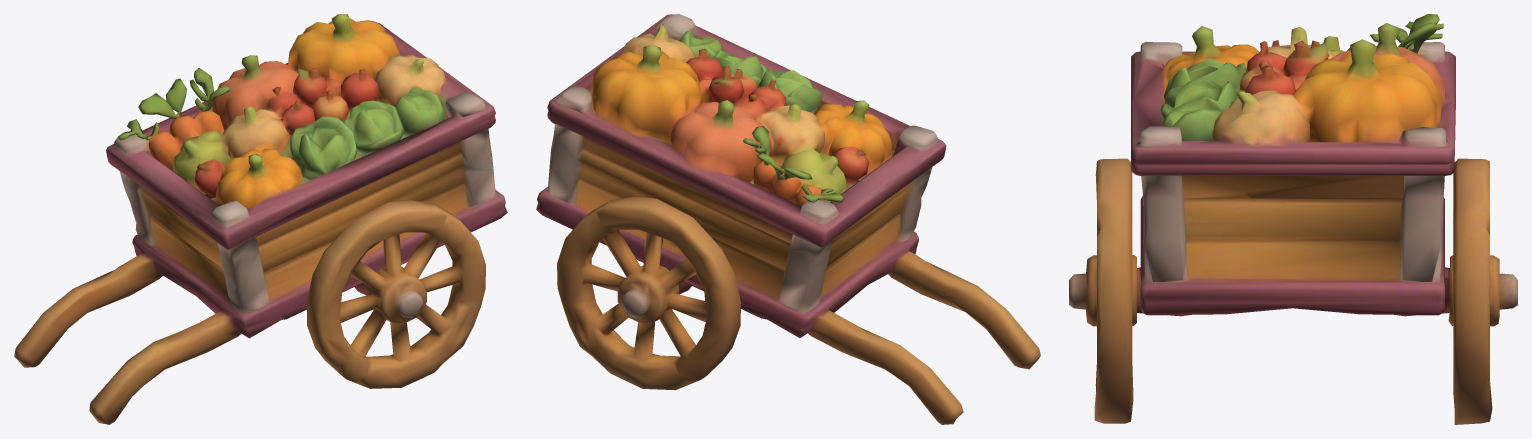
File: produce_cart.glb
3 renders of one model, left to right at view 1: azimuth 30°, elevation 25°; view 2: azimuth 150°, elevation 25°; view 3: azimuth 270°, elevation 25°, orthographic. The views are drawn at different scales.
Visible parts, largest first — view 1: SkyRally_prop_forest_produce_cart; view 2: SkyRally_prop_forest_produce_cart; view 3: SkyRally_prop_forest_produce_cart.
Part boxes in pixels (x1,y1,x2,y2): SkyRally_prop_forest_produce_cart: (14,14,507,424); SkyRally_prop_forest_produce_cart: (536,14,1040,424); SkyRally_prop_forest_produce_cart: (1069,14,1517,424).
Bounding box in the file's own units: 11 × 7.71 × 7.94.
1 material, 1 textured.
